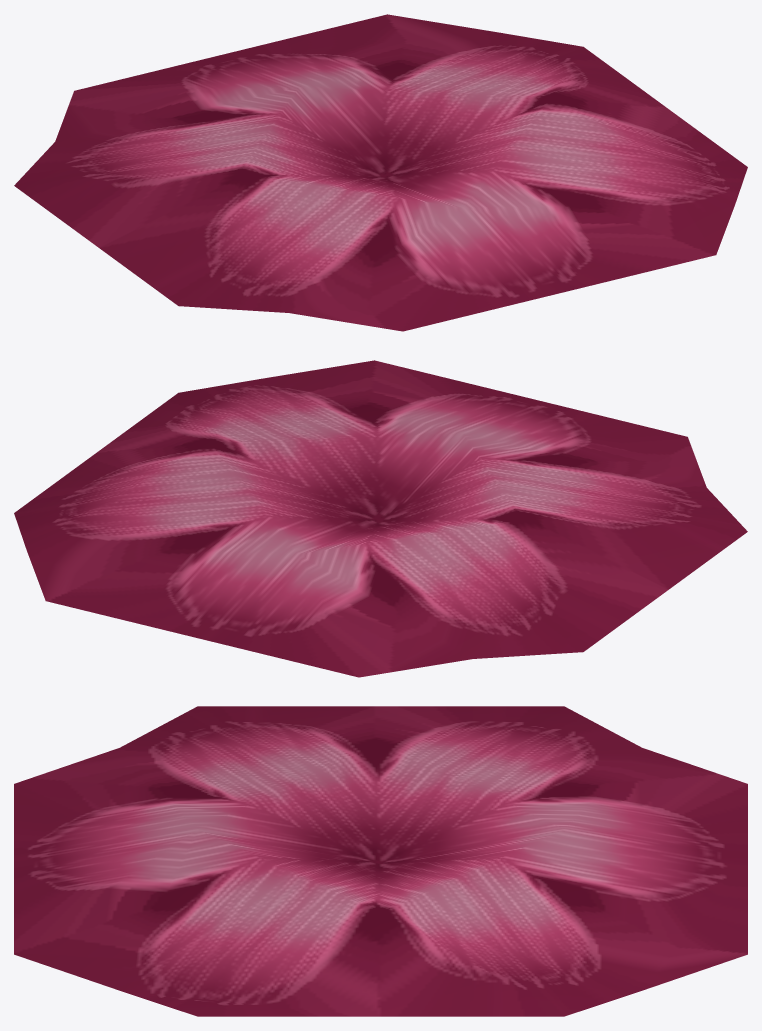
The model's file is Flower05_Art.fbx.
3 views of the same model, one above another, from view 1: azimuth 30°, elevation 25°; view 2: azimuth 150°, elevation 25°; view 3: azimuth 270°, elevation 25° (orthographic). The views are drawn at different scales.
Parts seen in each view (by area): view 1: Flower05_Art; view 2: Flower05_Art; view 3: Flower05_Art.
Boxes of the visible parts, x1,y1,x2,y2 form: Flower05_Art: [14, 14, 747, 331]; Flower05_Art: [14, 360, 747, 677]; Flower05_Art: [14, 706, 747, 1016].
Bounding box in the file's own units: 0.6029 × 0.0375 × 0.6029.
